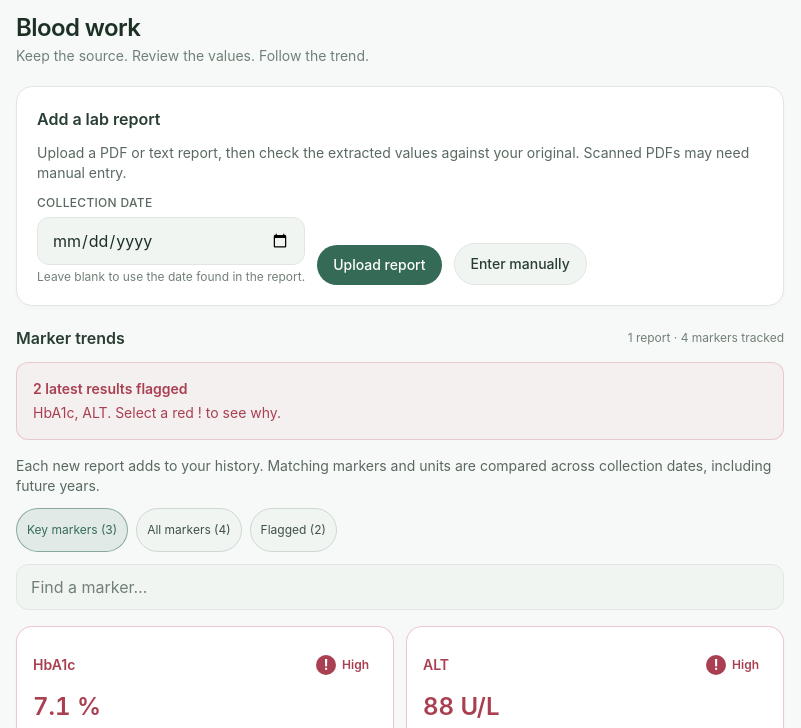
Test case: all markers and search expose numeric markers outside the key set without rounding results
Expected: the heading "Hemoglobin" is not shown
Click the button "All markers (4)".
click(189, 530)  # box x1=136 y1=508 x2=242 y2=552
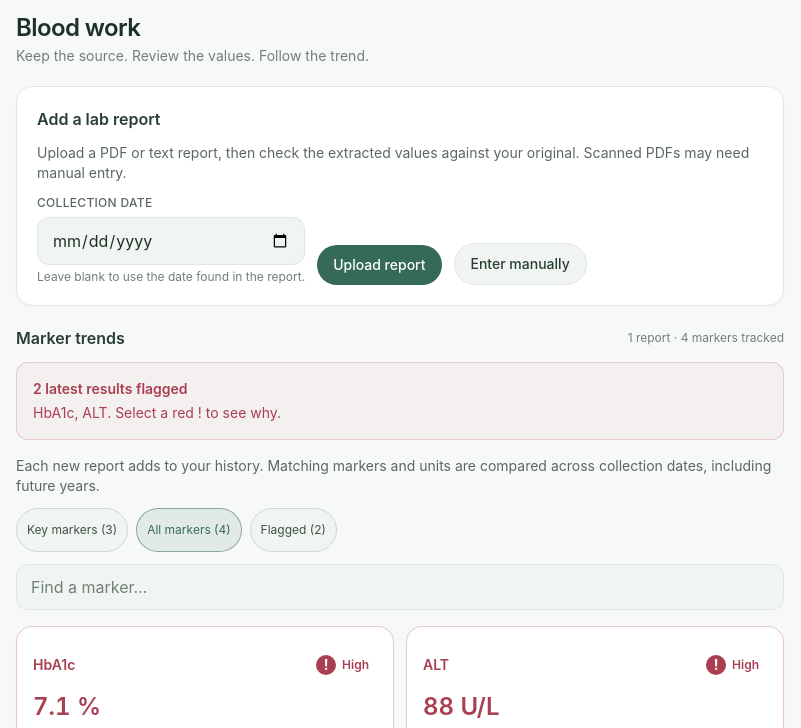
Type "hemoglobin" into the search field.
click(400, 587); type("hemoglobin")  # box x1=16 y1=564 x2=784 y2=610
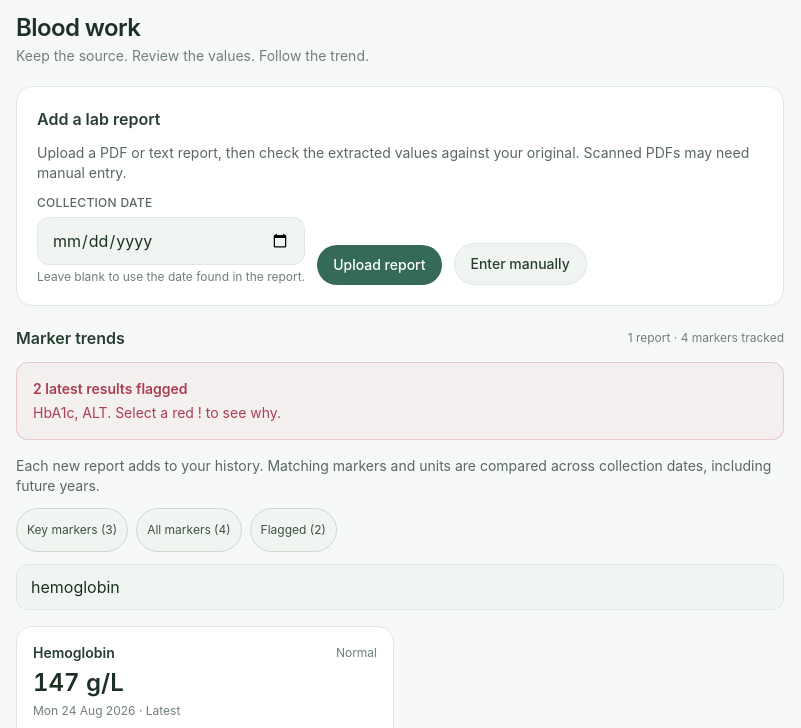
Expected: the heading "Hemoglobin" is shown, x1=33 y1=643 x2=115 y2=663
Click the button "Flagged (2)".
click(293, 530)  # box x1=250 y1=508 x2=337 y2=552
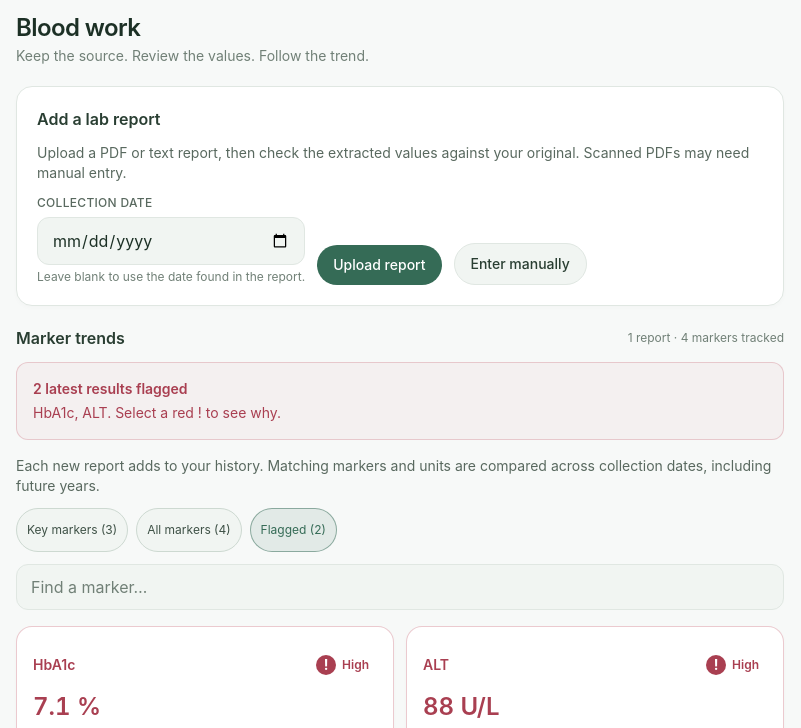
Expected: the heading "Hemoglobin" is gone
Expected: the heading "ALT" is shown, x1=423 y1=655 x2=449 y2=675
